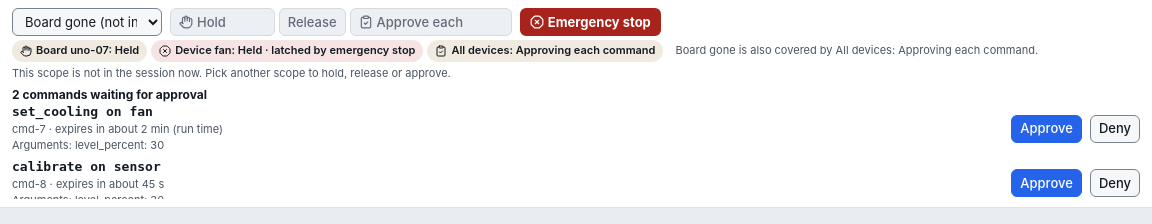
it: the interrupt controls on the live screen › keeps a picked scope that left the session, labelled, and offers no hold, release or approval for it
Expected: the button "Hold" is disabled, top-left (170, 8), bottom-right (275, 36)
Expected: the button "Release" is disabled, top-left (279, 8), bottom-right (346, 36)
Select "Device fan" in the dropdown named "Scope": (87, 22) top-left (12, 8), bottom-right (162, 36)
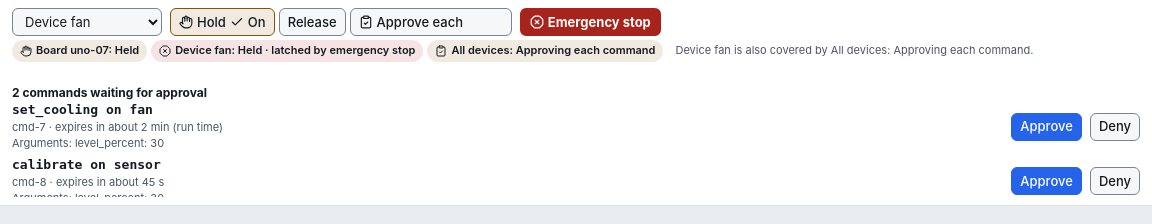
Now the button "Hold On" is enabled, box top-left (170, 8), bottom-right (275, 36)
